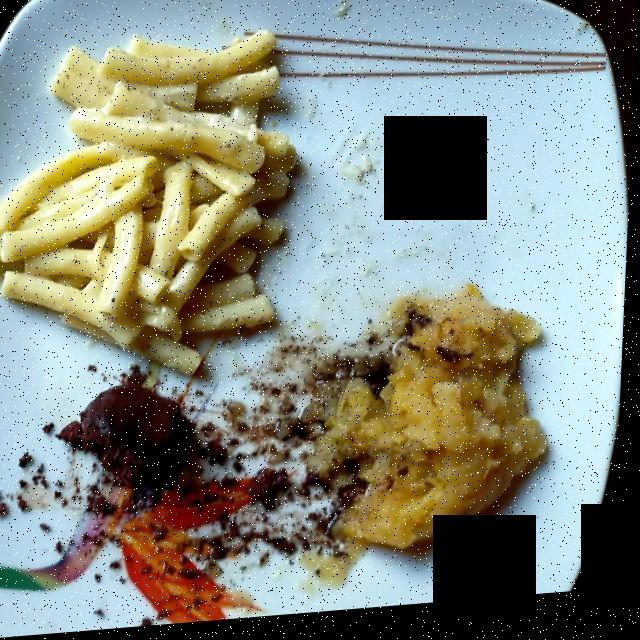applesauce: (329, 299, 549, 555)
pasta: (1, 36, 296, 366)
